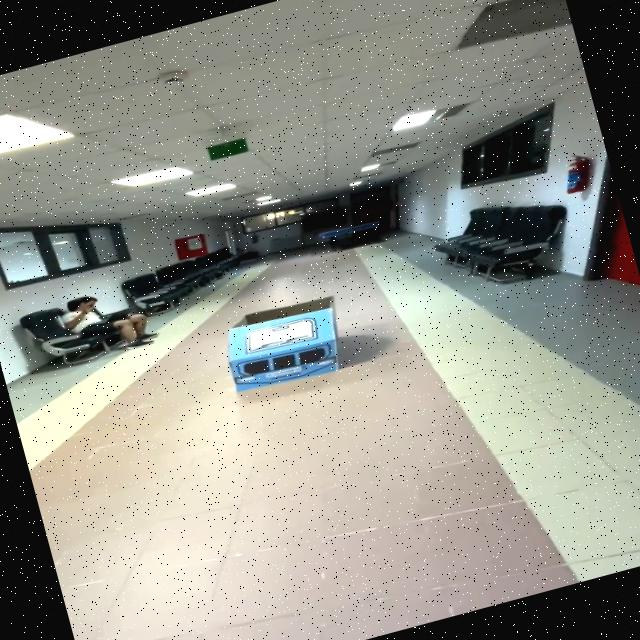blue_car: (199, 273, 391, 417)
